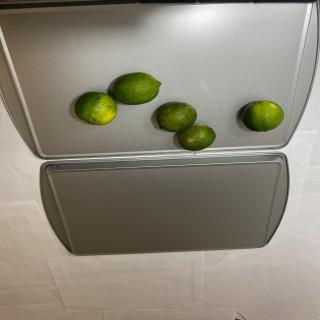Apple: (242, 100, 284, 132)
Lemon: (112, 72, 162, 105), (74, 92, 117, 125), (156, 101, 197, 132), (178, 124, 216, 151)
